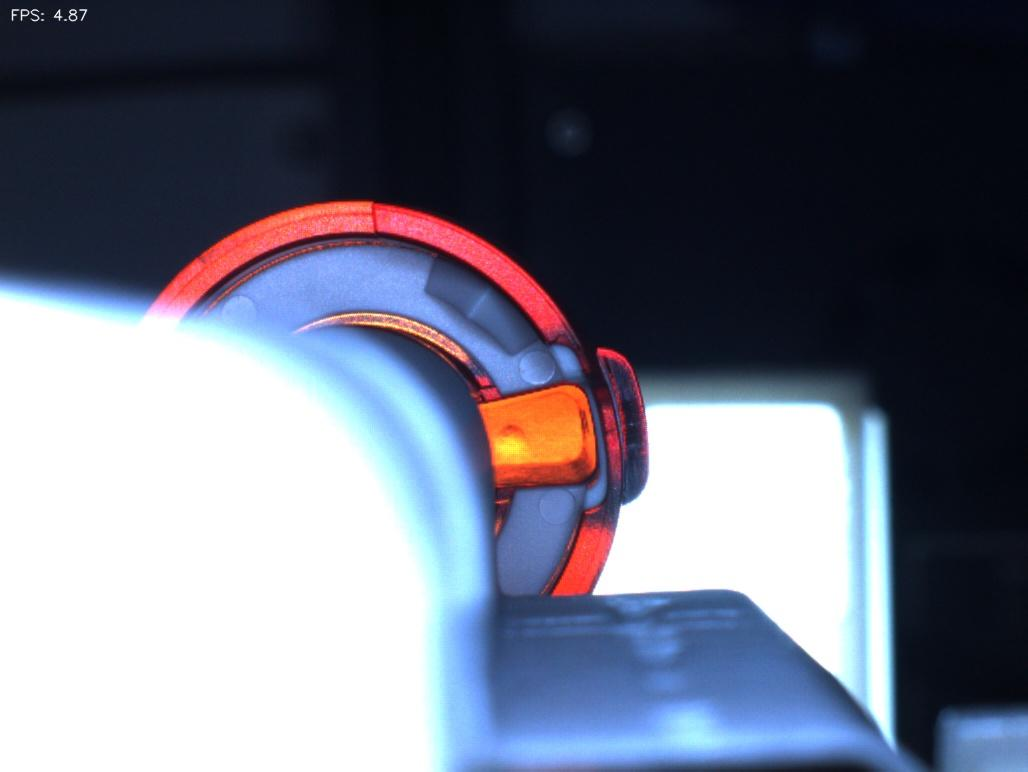Retassure: (479, 409, 553, 478)
